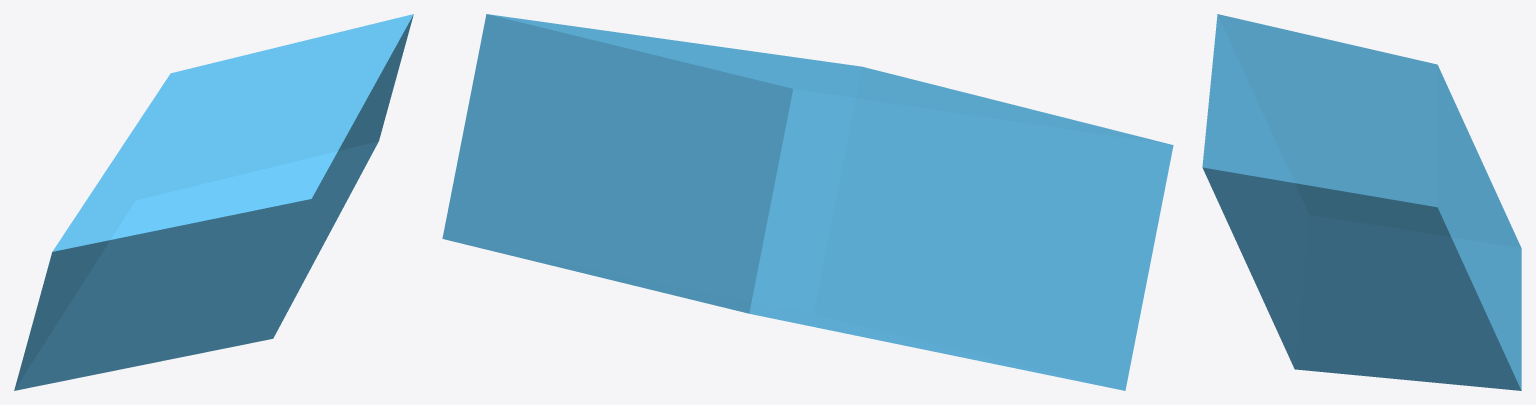
The model's file is Event_421115418_HBrechit_17.fbx.
3 renders of one model, left to right at view 1: azimuth 30°, elevation 25°; view 2: azimuth 150°, elevation 25°; view 3: azimuth 270°, elevation 25°, orthographic. The views are drawn at different scales.
Parts seen in each view (by area): view 1: Model; view 2: Model; view 3: Model.
Boxes of the visible parts, <box> form: Model: <box>14,14,413,390</box>; Model: <box>442,14,1173,390</box>; Model: <box>1202,14,1521,390</box>.
Size of the model in its own units: 1.15 by 0.5648 by 0.5845.
